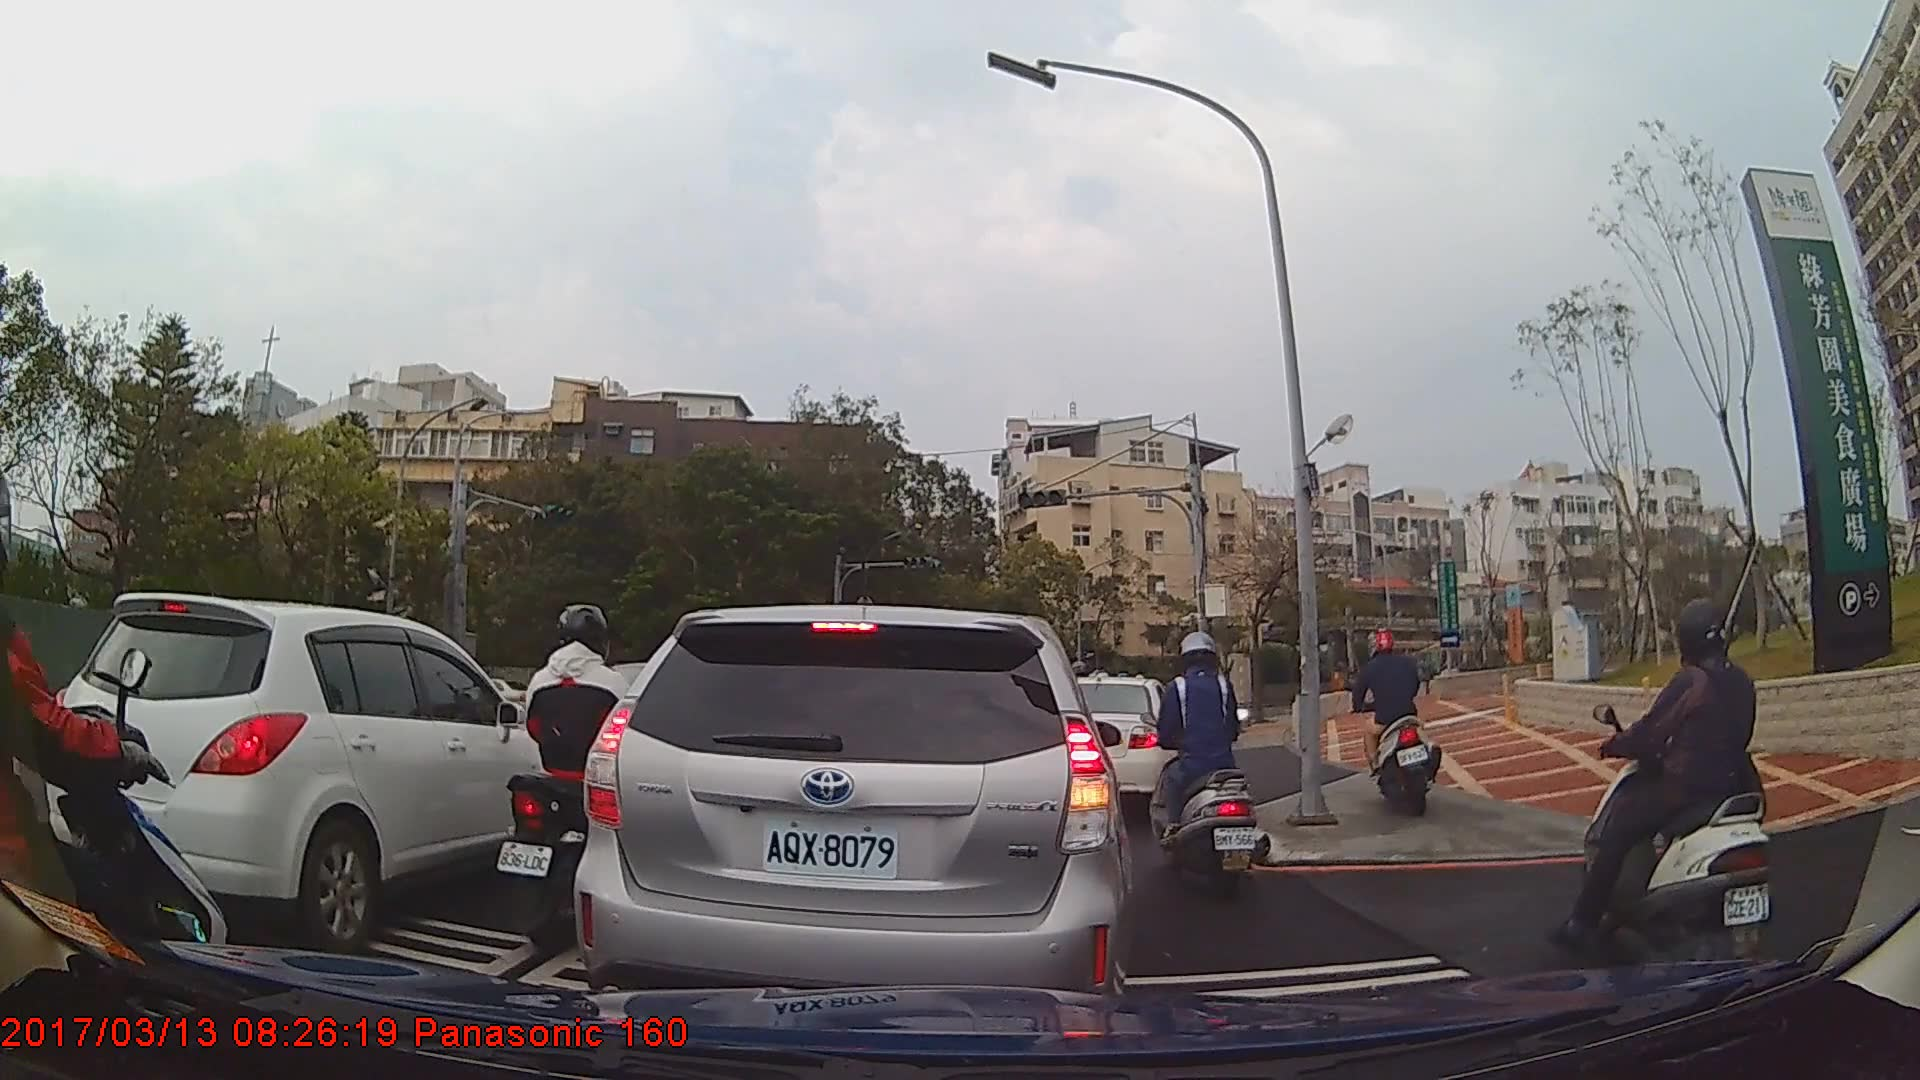rider: (1, 449, 233, 1080), (1547, 598, 1781, 965), (496, 599, 668, 947), (1144, 630, 1267, 900), (1353, 632, 1446, 822)
vehicle: (572, 603, 1131, 1027), (38, 593, 582, 955), (1059, 671, 1193, 818)
